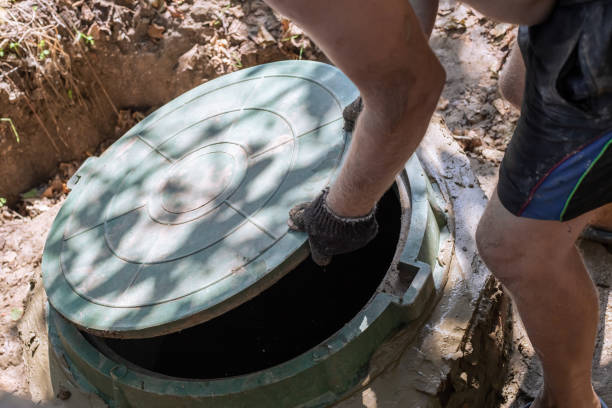open_manhole: (71, 308, 401, 386)
